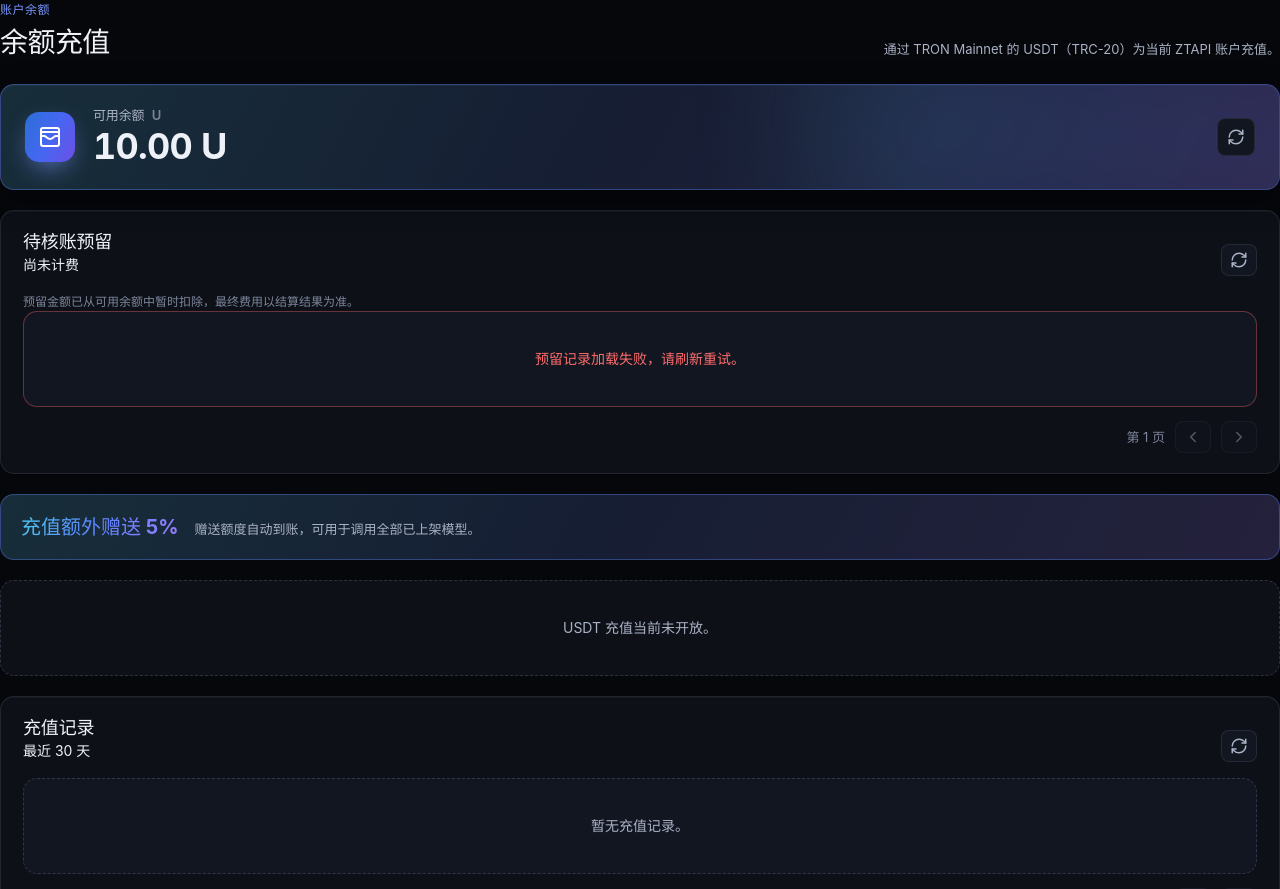
Test: wallet pending reservations › keeps login and balance on a http resource error, then retries
The image size is (1280, 889).
Expected: the text "预留记录加载失败，请刷新重试。" is shown, [23,311,1257,407]
Expected: the text "10.00 U" is shown, [93,124,227,168]
What coordinates should you click on to do the following:
click the button named "刷新预留记录"
I would click on:
 (1239, 260)
Its box is [1221,244,1257,276].
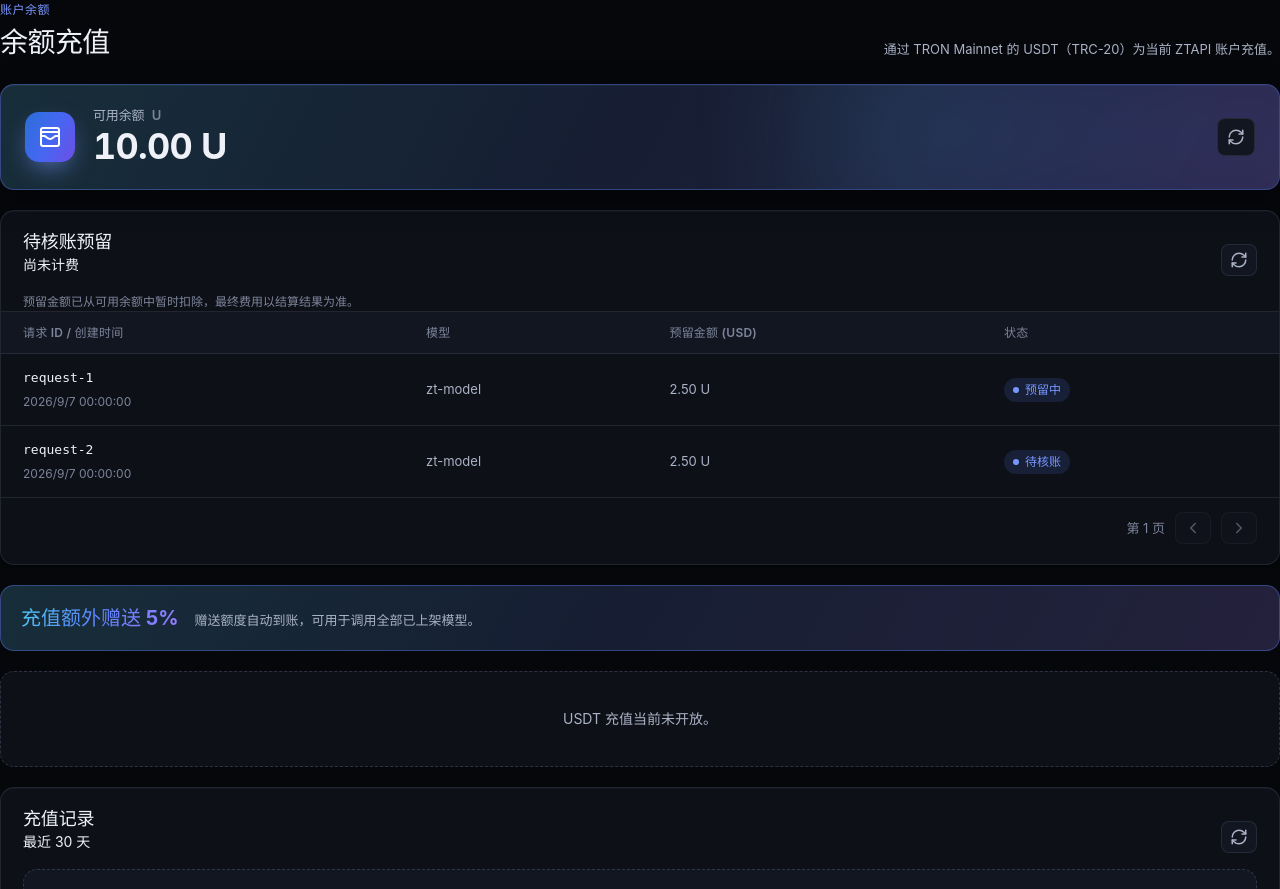
Now the text "request-1" is shown, box [23,370,94,385]
